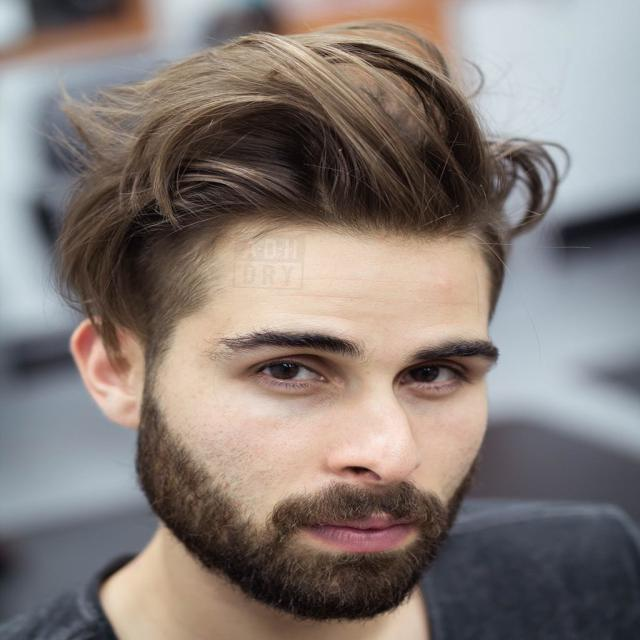human: (21, 25, 635, 640)
